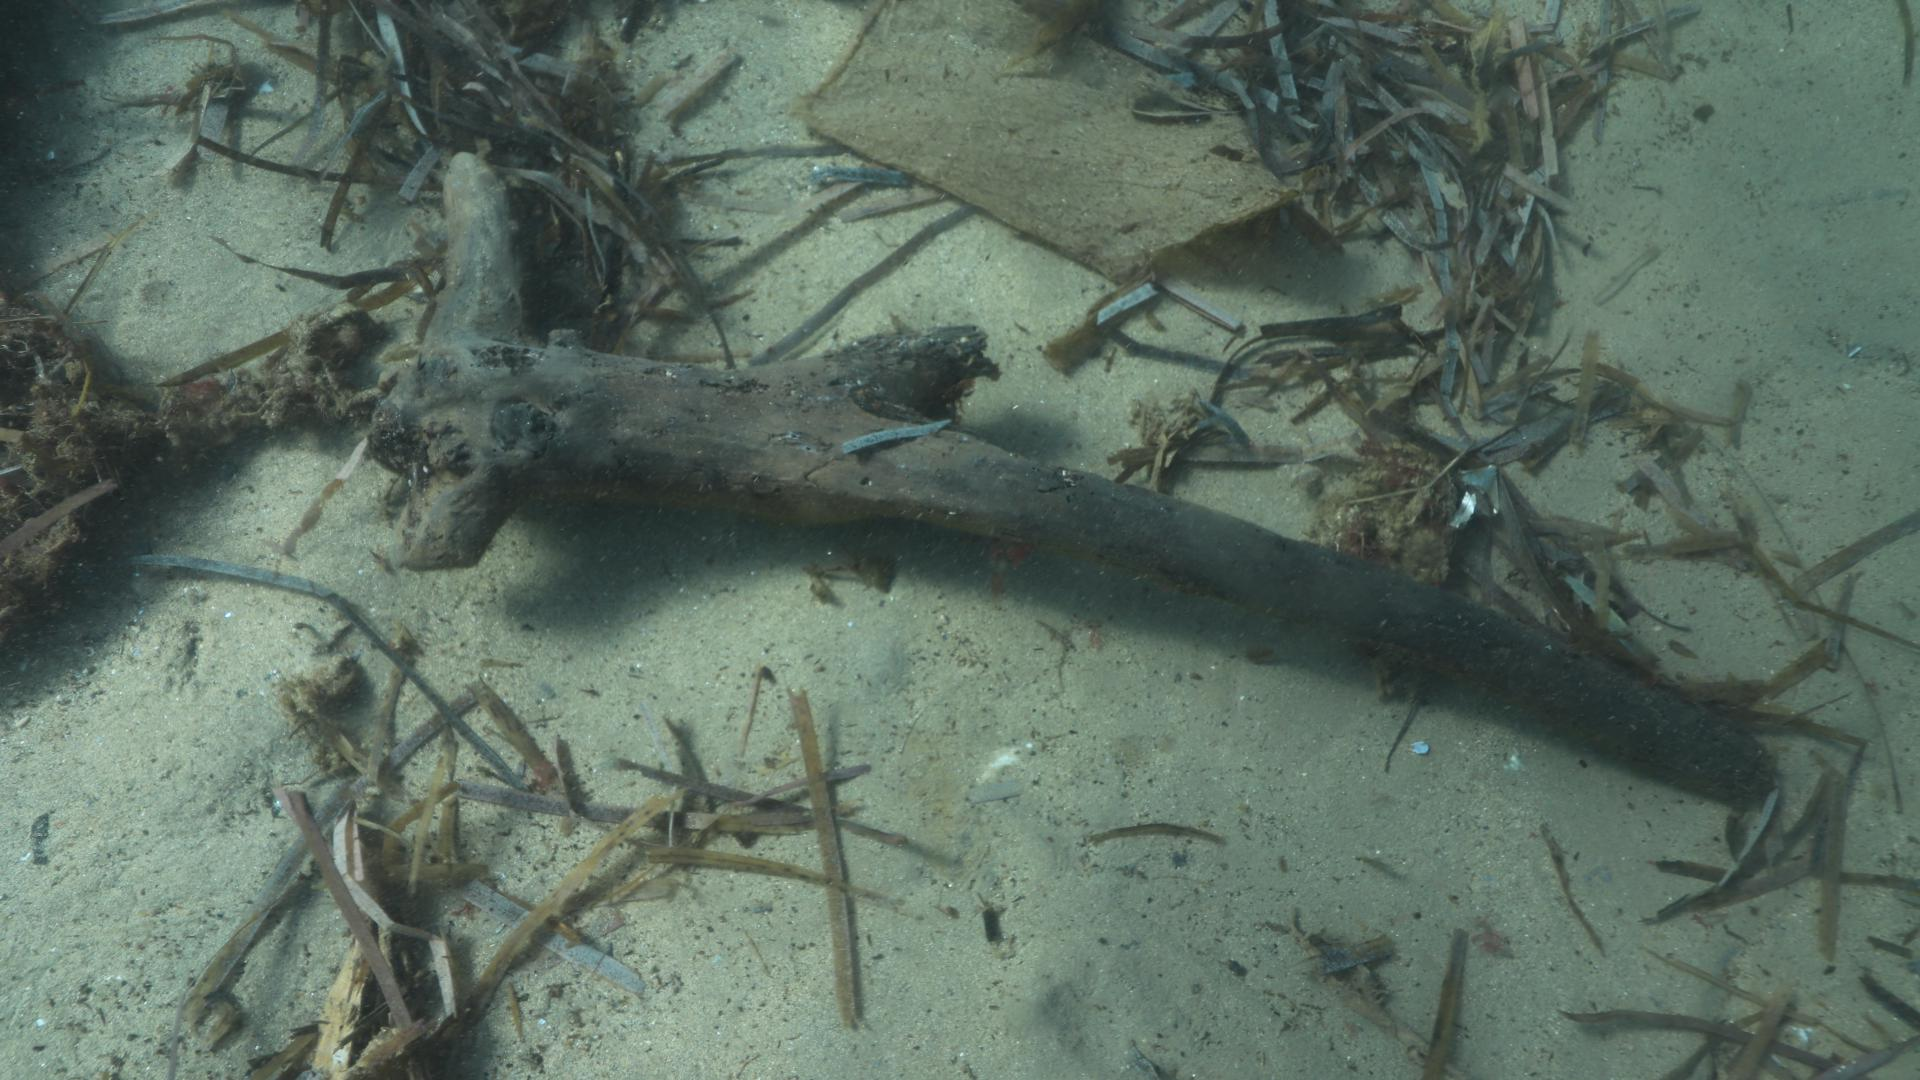wood: (398, 152, 1778, 814), (796, 0, 1302, 282)
